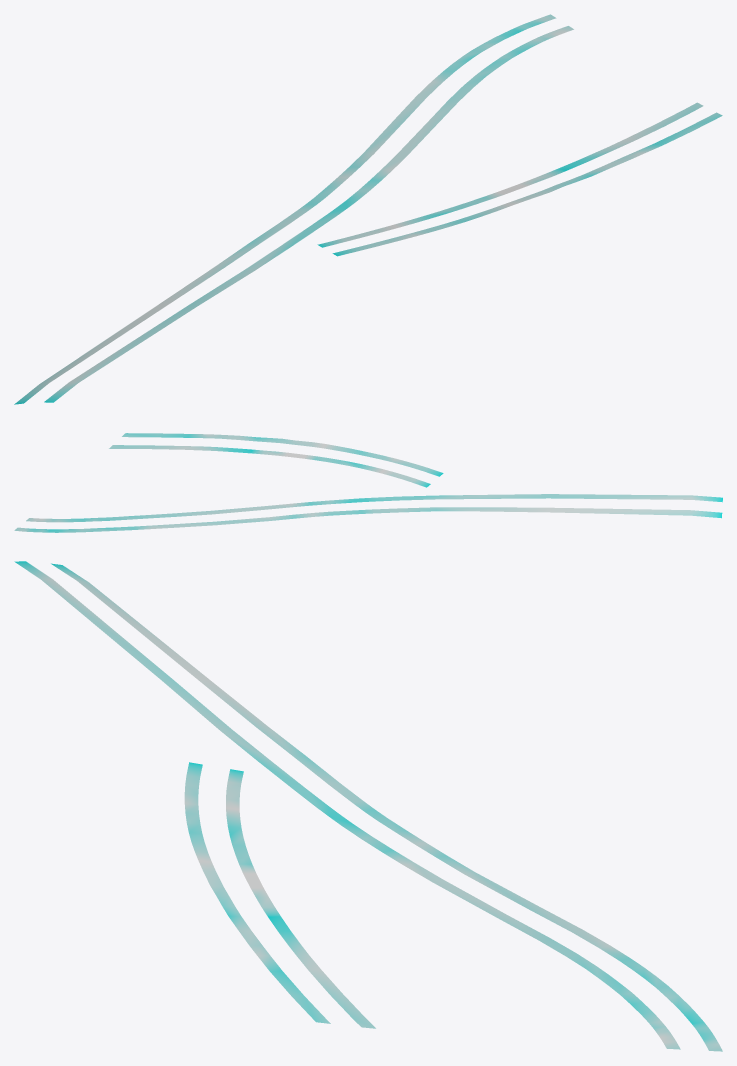
3 views of the same model, one above another, from view 1: azimuth 30°, elevation 25°; view 2: azimuth 150°, elevation 25°; view 3: azimuth 270°, elevation 25° (orthographic). The views are drawn at different scales.
Visible parts, largest first — view 1: SpaceCenter_Long3_GenerateRoad_Sand_TireTracks_Narrow_Mesh_x; view 2: SpaceCenter_Long3_GenerateRoad_Sand_TireTracks_Narrow_Mesh_x; view 3: SpaceCenter_Long3_GenerateRoad_Sand_TireTracks_Narrow_Mesh_x.
Boxes of the visible parts, left/top/right/bottom form: SpaceCenter_Long3_GenerateRoad_Sand_TireTracks_Narrow_Mesh_x: left=14, top=14, right=722, bottom=404; SpaceCenter_Long3_GenerateRoad_Sand_TireTracks_Narrow_Mesh_x: left=14, top=433, right=722, bottom=532; SpaceCenter_Long3_GenerateRoad_Sand_TireTracks_Narrow_Mesh_x: left=14, top=561, right=722, bottom=1051.
Bounding box in the file's own units: 1116 × 1751 × 71.96.
